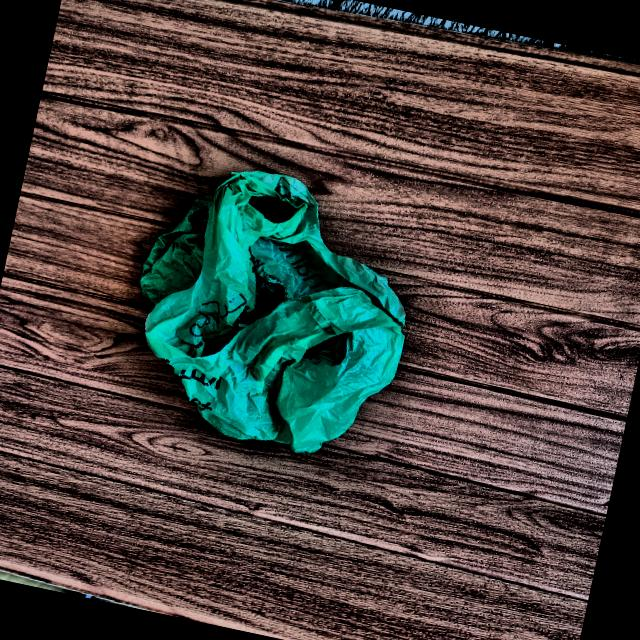plastic bag: (92, 142, 456, 493)
